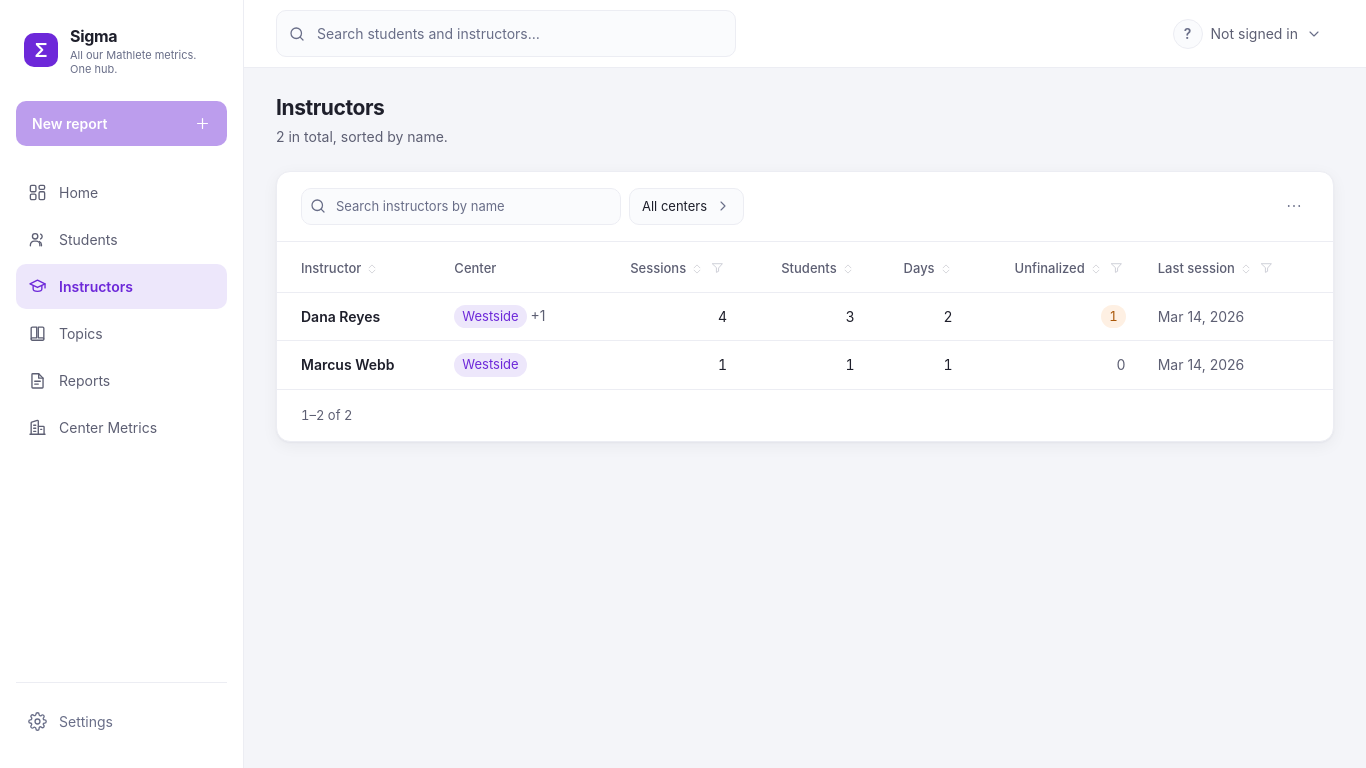
Test: instructors page › returns an instructor at two centers once when both are ticked
Expected: the row "Dana Reyes Westside +1 4 3 2 1 Mar 14, 2026" is shown, x1=277 y1=292 x2=1333 y2=340
Click the button "All centers" at coordinates (687, 206), box x1=629 y1=188 x2=744 y2=225
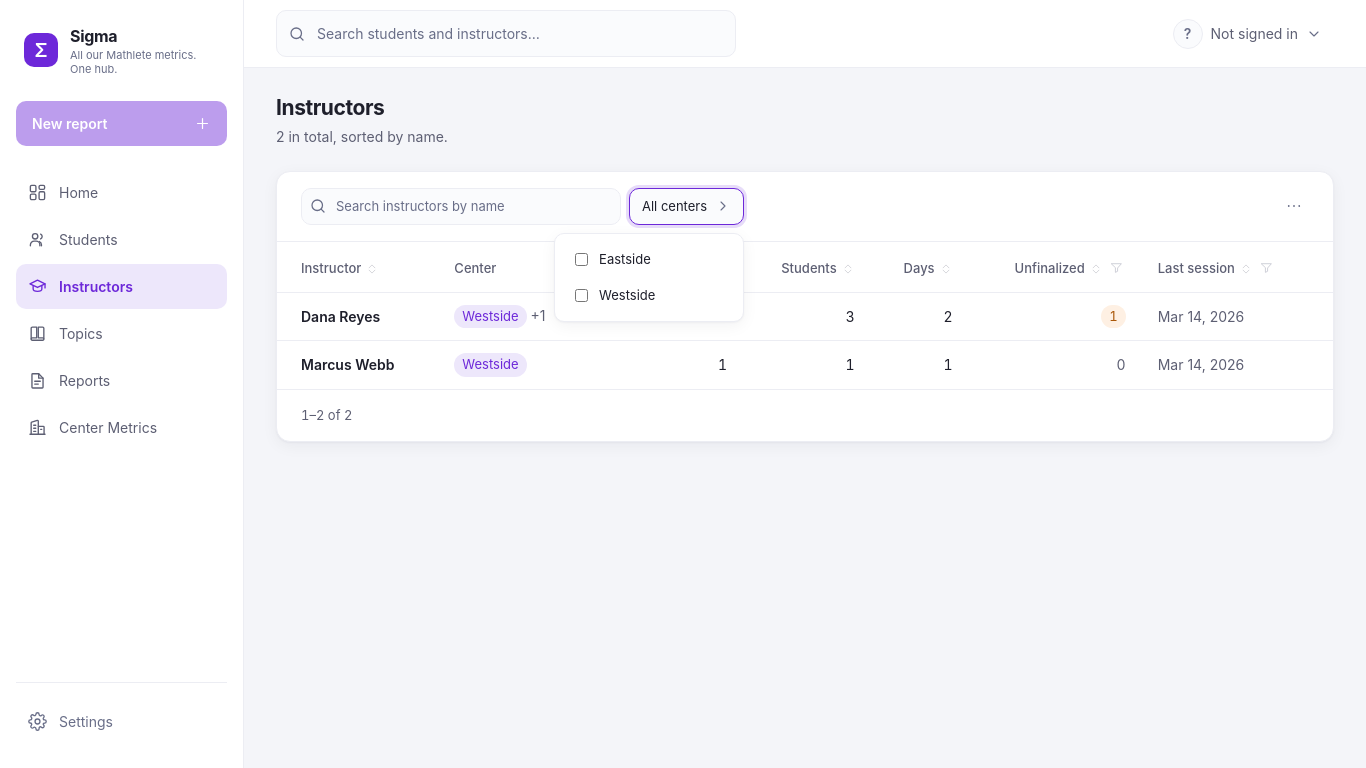
Click the checkbox labelled "Westside" at coordinates (582, 295), box x1=575 y1=289 x2=588 y2=302
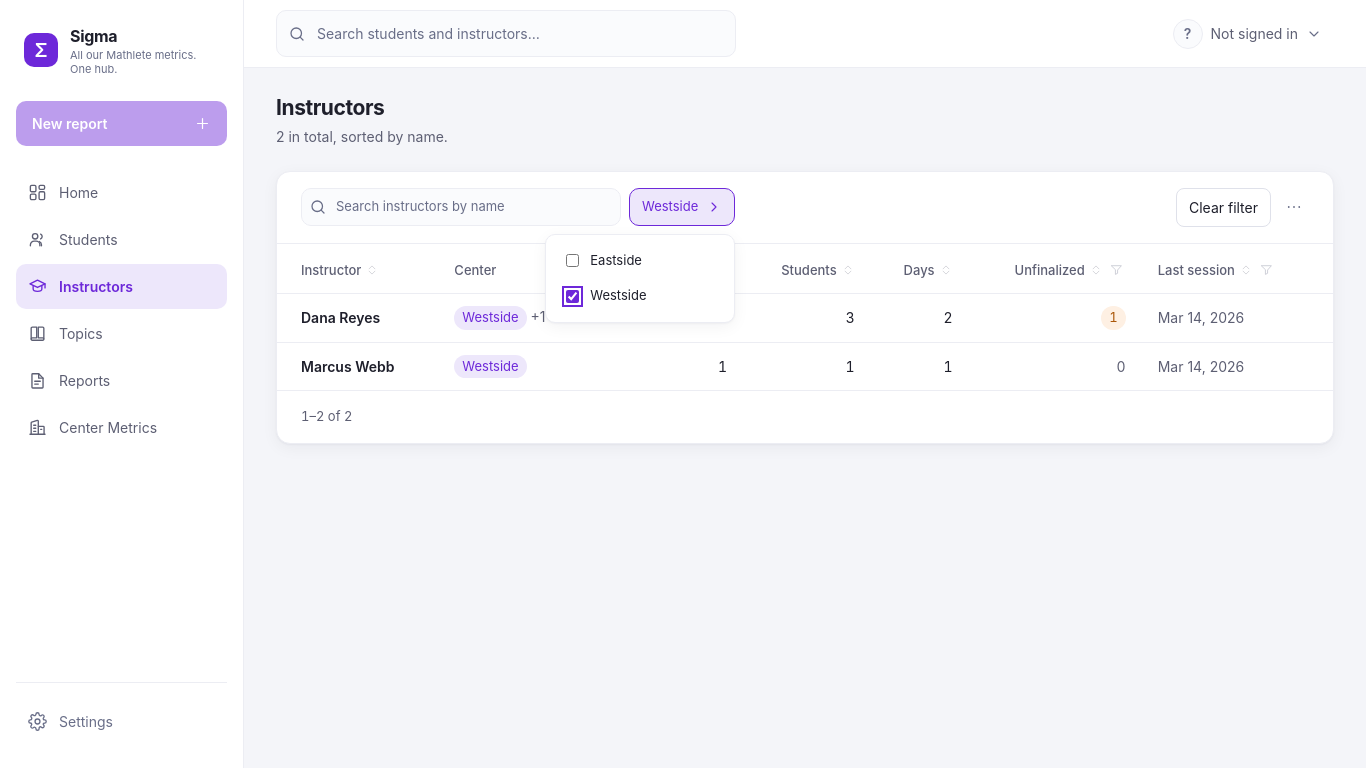
Click the checkbox labelled "Eastside" at coordinates (573, 260), box x1=566 y1=254 x2=579 y2=267
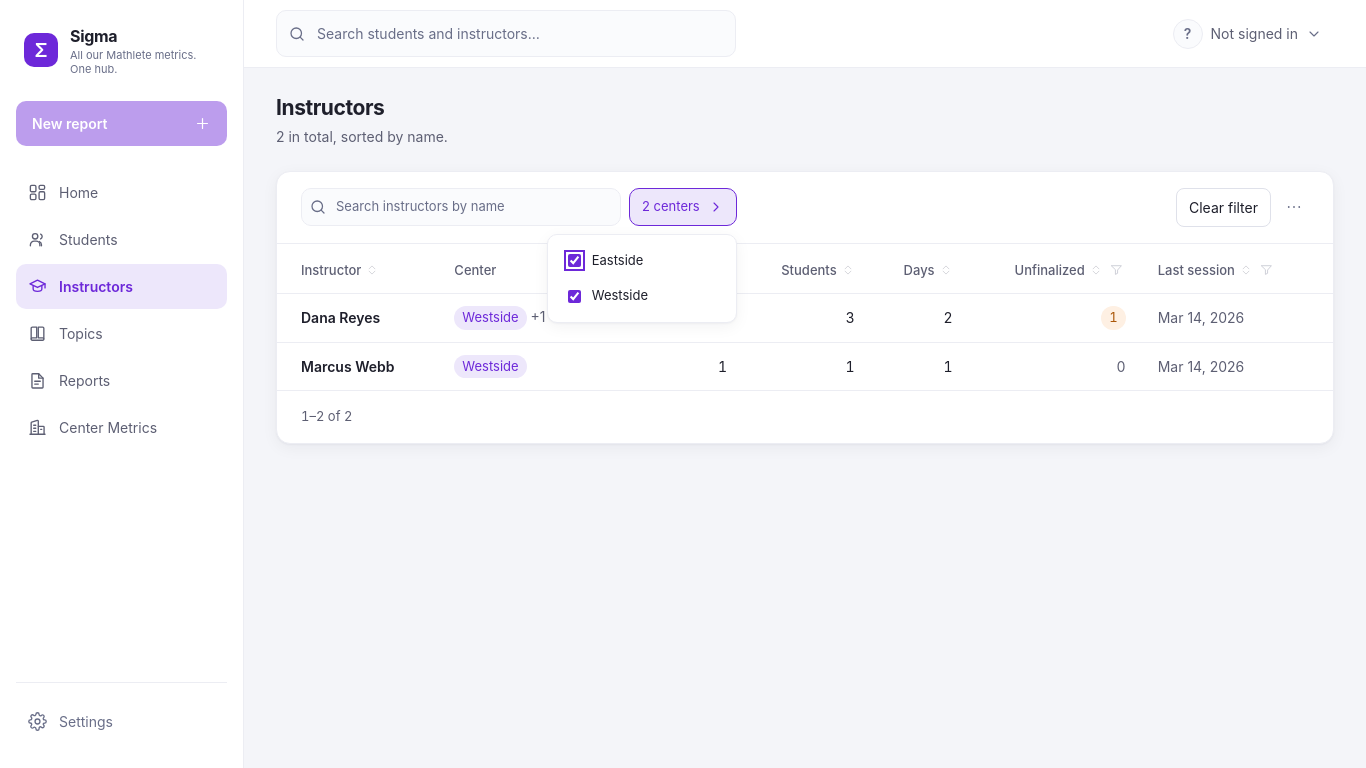
Expected: the number of rows "Dana Reyes Westside +1 4 3 2 1 Mar 14, 2026" is 1, x1=277 y1=294 x2=1333 y2=342
Expected: the button "2 centers" is shown, x1=629 y1=188 x2=737 y2=226
